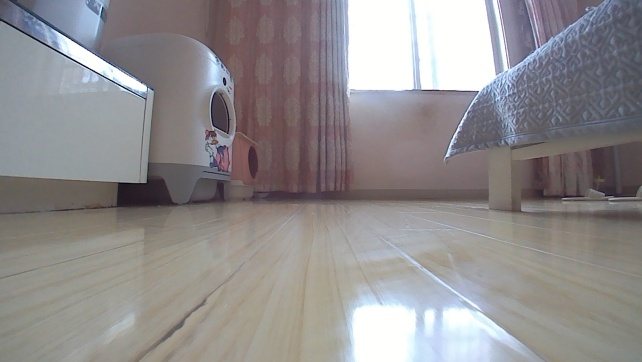bed1: (439, 0, 641, 214)
slipper: (560, 188, 614, 203)
